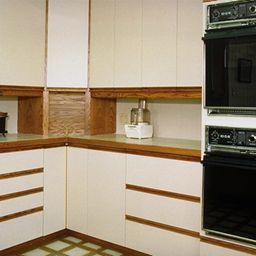Electrodomestico: (205, 124, 254, 247), (206, 5, 255, 118)
